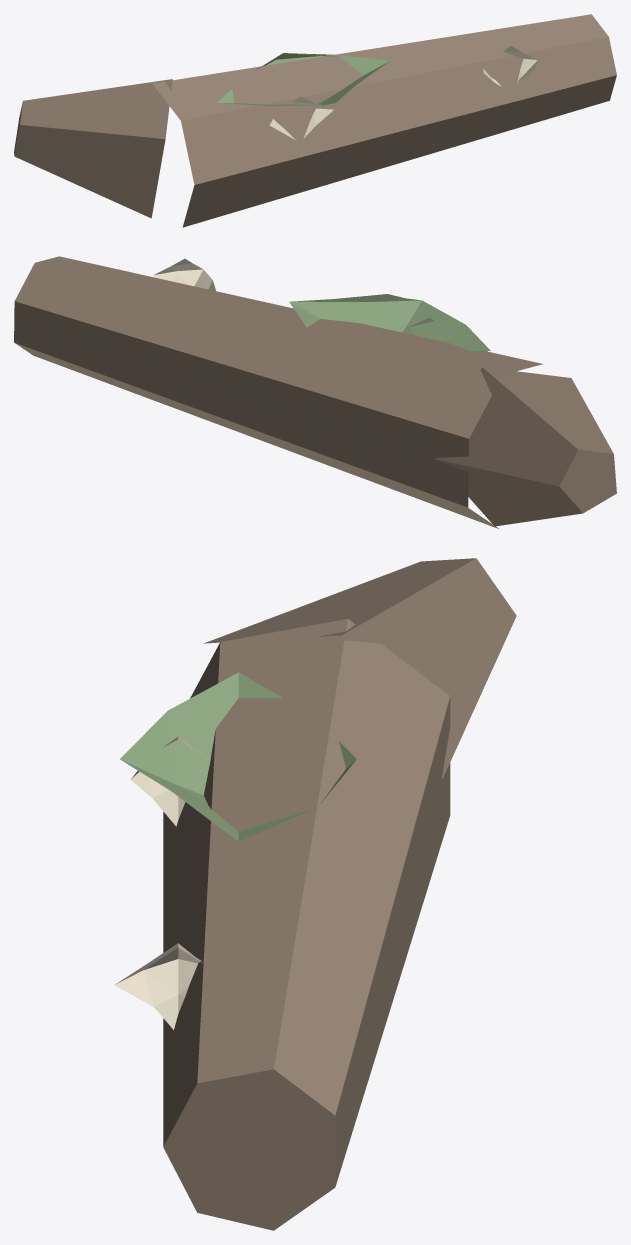
File: log_v42.glb
3 renders of one model, top to bottom at view 1: azimuth 30°, elevation 25°; view 2: azimuth 150°, elevation 25°; view 3: azimuth 270°, elevation 25°, orthographic. The views are drawn at different scales.
Visible parts, largest first — view 1: lod0; view 2: lod0; view 3: lod0.
Boxes of the visible parts, left/top/right/bottom form: lod0: left=14, top=14, right=616, bottom=227; lod0: left=14, top=256, right=616, bottom=528; lod0: left=114, top=558, right=516, bottom=1230.
Size of what is drawn, in the model's own units: 2.32 by 0.6227 by 0.7454.
